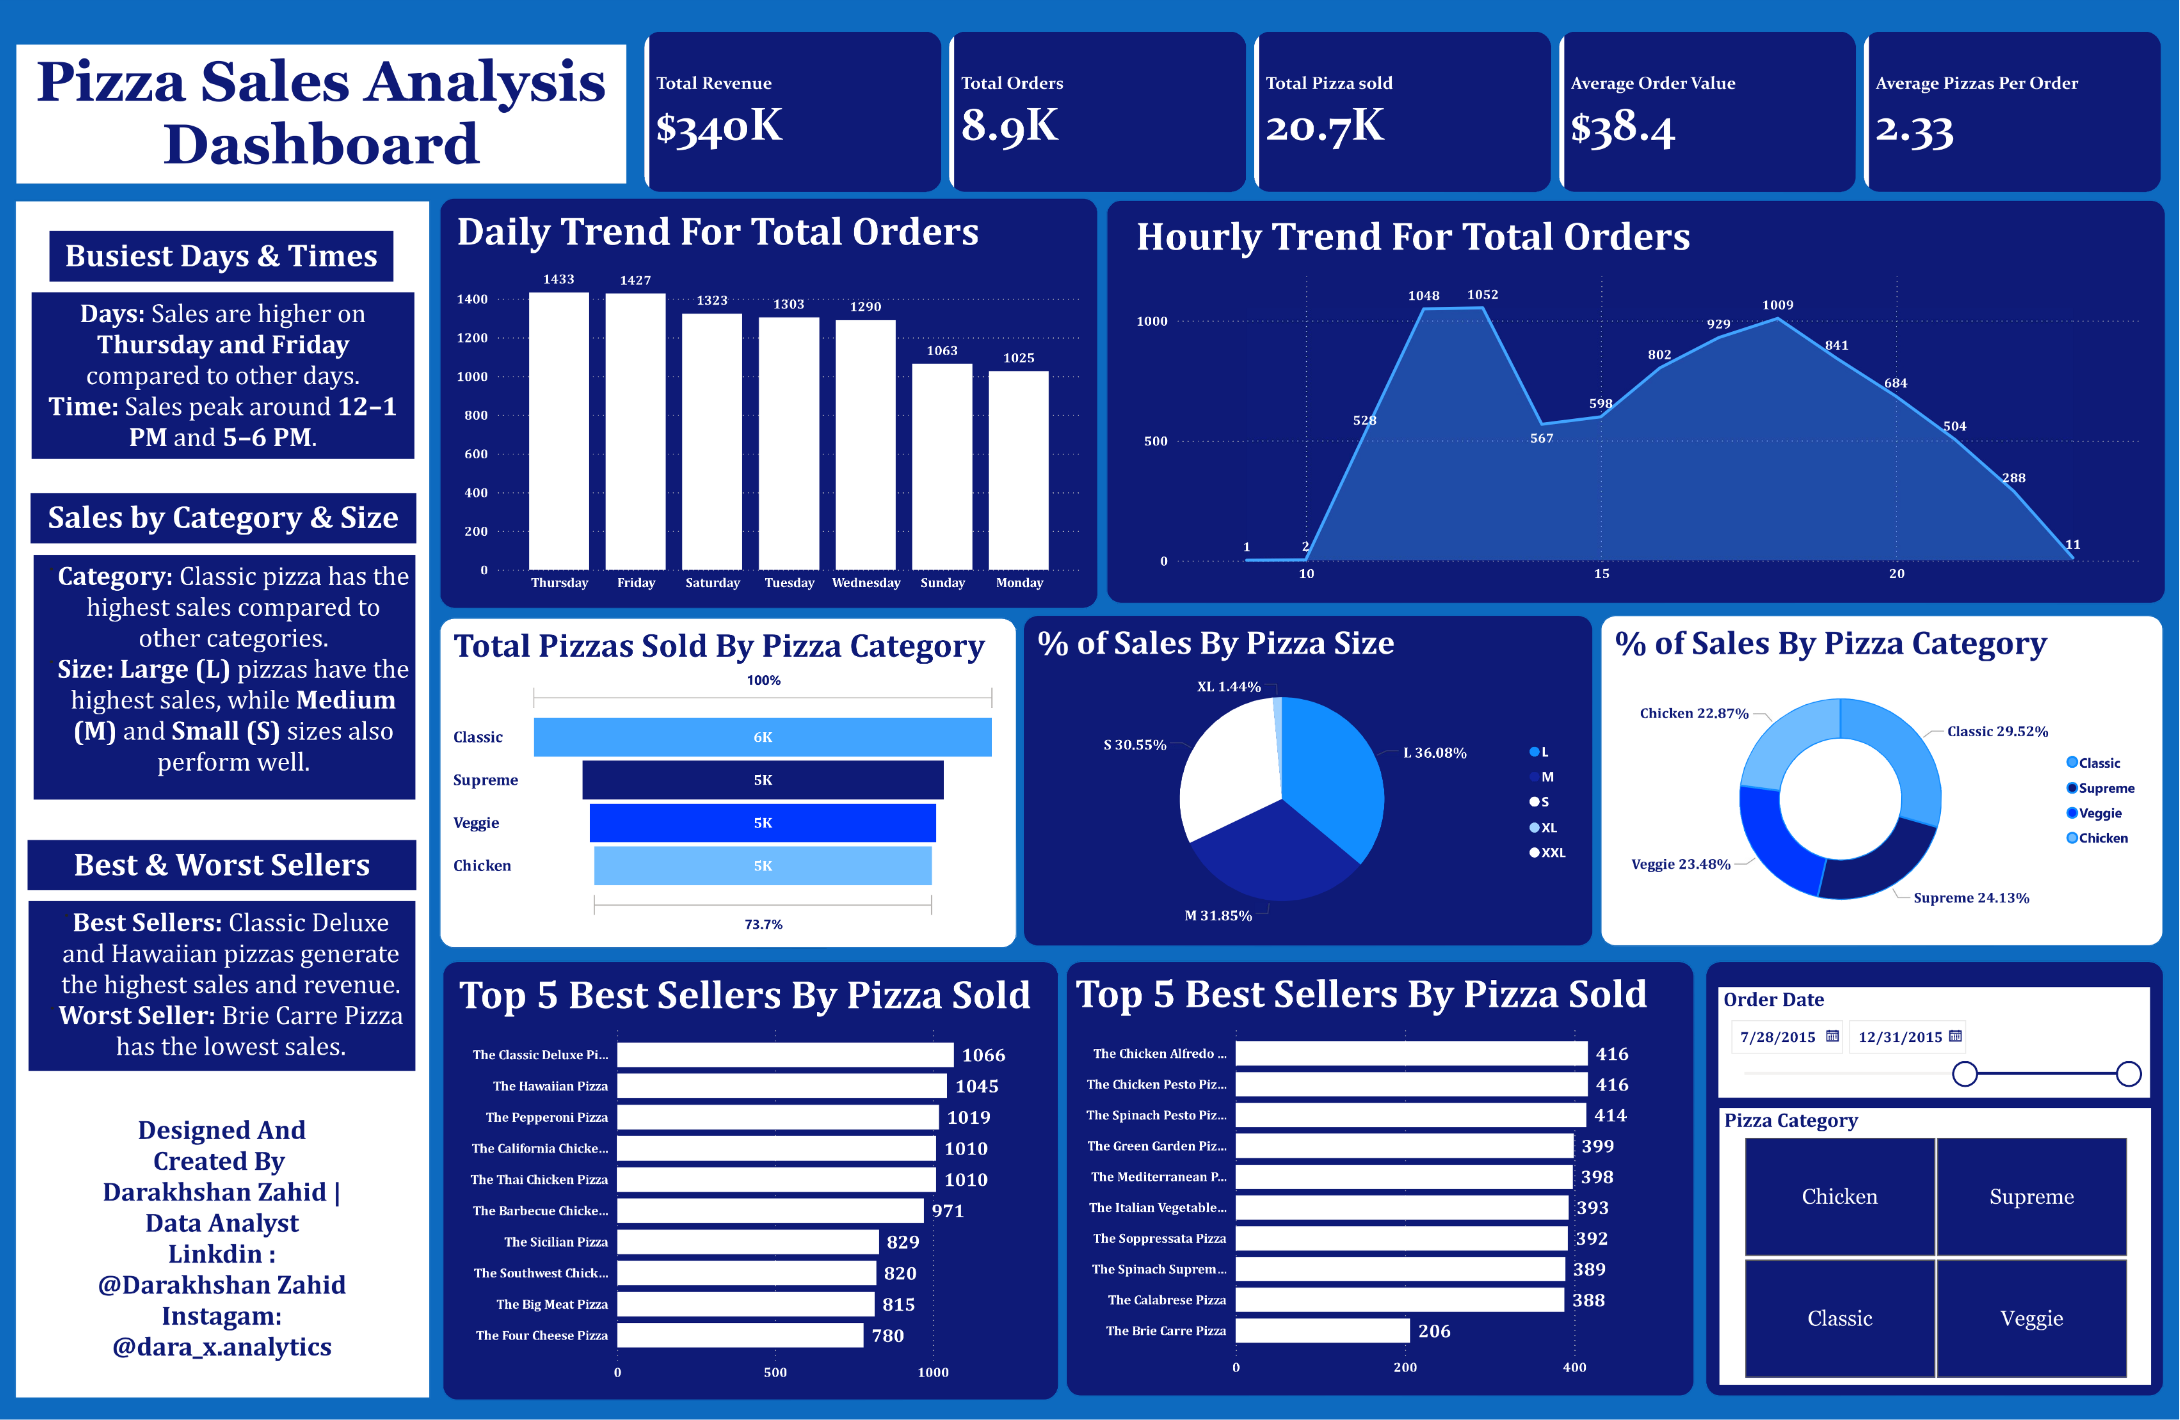

The dashboard page shown, as its layout file describes it:
{"tool":"powerbi","page":{"name":"Page 1","canvas":[2180,1420],"ordinal":0},"visuals":[{"type":"cardVisual","fields":{"Data":["pizza_sales data.Total Revenue","pizza_sales data.Total Orders","pizza_sales data.Total Pizza sold","pizza_sales data.Average Order Value","pizza_sales data.Average Pizzas Per Order"]},"box":[627.7,14.9,1553.2,193.6],"z":0},{"type":"group","id":"g1","title":"Group 1","box":[440,198,660,420],"z":1000},{"type":"shape","box":[440,198,658.7,411.2],"z":1000,"group":"g1"},{"type":"shape","box":[1106.7,200,1060,404.4],"z":1000,"group":"g2"},{"type":"shape","box":[1024.1,614.9,570.8,333.1],"z":1000,"group":"g4"},{"type":"shape","box":[1602.3,614.9,562.8,333.3],"z":1000,"group":"g3"},{"type":"shape","box":[439.4,616.2,577.6,330.7],"z":1000,"group":"g5"},{"type":"shape","box":[442.2,960,616.9,439.7],"z":1000,"group":"g6"},{"type":"shape","box":[1066.3,960.2,629.3,436.2],"z":1000,"group":"g7"},{"type":"group","id":"g2","title":"Group 1","box":[1106.7,200,1060,404.4],"z":2000},{"type":"clusteredColumnChart","title":"Daily Trend For Total Orders","fields":{"Category":["pizza_sales data.Weeday"],"Y":["pizza_sales data.Total Orders"]},"box":[451.6,207,635.4,393.1],"z":2000,"group":"g1"},{"type":"lineChart","title":"Hourly Trend For Total Orders","fields":{"Category":["pizza_sales data.Order Hour"],"Y":["pizza_sales data.Total Orders"]},"box":[1131.2,211.8,1017.6,379.4],"z":2000,"group":"g2"},{"type":"pieChart","title":"% of Sales By Pizza Size","fields":{"Y":["pizza_sales data.Total Orders"],"Category":["pizza_sales data.pizza_size"]},"box":[1033.3,622.3,547.7,316.6],"z":2000,"group":"g4"},{"type":"donutChart","title":"% of Sales By Pizza Category","fields":{"Y":["pizza_sales data.Total Orders"],"Category":["pizza_sales data.pizza_category"]},"box":[1611.4,622.3,540,316.8],"z":2000,"group":"g3"},{"type":"funnel","title":"Total Pizzas Sold By Pizza Category","fields":{"Category":["pizza_sales data.pizza_category"],"Y":["Sum(pizza_sales data.quantity)"]},"box":[448.7,623.5,554.1,314.3],"z":2000,"group":"g5"},{"type":"clusteredBarChart","title":"Top 5 Best Sellers By Pizza Sold","fields":{"Category":["pizza_sales data.pizza_name"],"Y":["Sum(pizza_sales data.quantity)"]},"box":[1070.6,968.3,612.7,416.1],"z":2000,"group":"g7"},{"type":"clusteredBarChart","title":"Top 5 Best Sellers By Pizza Sold","fields":{"Category":["pizza_sales data.pizza_name"],"Y":["Sum(pizza_sales data.quantity)"]},"box":[452.8,968.9,603.6,420.1],"z":2000,"group":"g6"},{"type":"group","id":"g3","title":"Group 1","box":[1602.3,614.9,562.1,333.3],"z":3000},{"type":"group","id":"g4","title":"Group 1","box":[1024.1,614.9,571.3,333.3],"z":4000},{"type":"group","id":"g5","title":"Group 1","box":[439.4,616.2,577.8,331.3],"z":5000},{"type":"group","id":"g6","title":"Group 1","box":[442.2,960,617.8,437.8],"z":6000},{"type":"group","id":"g7","title":"Group 1","box":[1066.3,960.2,628.9,436.1],"z":7000},{"type":"shape","box":[1705.6,959.7,459.7,436.1],"z":8000},{"type":"slicer","title":"Order Date","fields":{"Values":["pizza_sales data.order_date"]},"box":[1719.4,986.1,431.9,111.1],"z":9000},{"type":"slicer","title":"Pizza Category","fields":{"Values":["pizza_sales data.pizza_category"]},"box":[1719.5,1106.9,432.2,277],"z":10000},{"type":"textbox","box":[16.1,41.9,609.7,138.7],"z":11000},{"type":"shape","box":[14,197.7,416.3,1200],"z":12000},{"type":"textbox","box":[48.6,228.6,344.3,50],"z":13000},{"type":"textbox","box":[31.4,290,382.9,167.1],"z":14000},{"type":"textbox","box":[30,491.4,385.7,50],"z":14001},{"type":"textbox","box":[32.5,552.5,382.5,245],"z":14002},{"type":"textbox","box":[27.1,838.6,388.6,50],"z":14003},{"type":"textbox","box":[27.5,900,387.5,170],"z":14004},{"type":"textbox","box":[82.5,1107.5,277.5,262.5],"z":14005}]}

Visuals, with their boxes in screenshot pixels (x1, y1, x2, y2), scaled from the page's 2180x1420 canvas onto the 2180x1420 screenshot:
cardVisual - pizza_sales data.Total Revenue x pizza_sales data.Total Orders: [628, 15, 2179, 208]
"Group 1" group: [440, 198, 1100, 618]
shape: [440, 198, 1099, 609]
shape: [1107, 200, 2167, 604]
shape: [1024, 615, 1595, 948]
shape: [1602, 615, 2165, 948]
shape: [439, 616, 1017, 947]
shape: [442, 960, 1059, 1400]
shape: [1066, 960, 1696, 1396]
"Group 1" group: [1107, 200, 2167, 604]
"Daily Trend For Total Orders" clusteredColumnChart: [452, 207, 1087, 600]
"Hourly Trend For Total Orders" lineChart: [1131, 212, 2149, 591]
"% of Sales By Pizza Size" pieChart: [1033, 622, 1581, 939]
"% of Sales By Pizza Category" donutChart: [1611, 622, 2151, 939]
"Total Pizzas Sold By Pizza Category" funnel: [449, 624, 1003, 938]
"Top 5 Best Sellers By Pizza Sold" clusteredBarChart: [1071, 968, 1683, 1384]
"Top 5 Best Sellers By Pizza Sold" clusteredBarChart: [453, 969, 1056, 1389]
"Group 1" group: [1602, 615, 2164, 948]
"Group 1" group: [1024, 615, 1595, 948]
"Group 1" group: [439, 616, 1017, 948]
"Group 1" group: [442, 960, 1060, 1398]
"Group 1" group: [1066, 960, 1695, 1396]
shape: [1706, 960, 2165, 1396]
"Order Date" slicer: [1719, 986, 2151, 1097]
"Pizza Category" slicer: [1720, 1107, 2152, 1384]
textbox: [16, 42, 626, 181]
shape: [14, 198, 430, 1398]
textbox: [49, 229, 393, 279]
textbox: [31, 290, 414, 457]
textbox: [30, 491, 416, 541]
textbox: [32, 552, 415, 798]
textbox: [27, 839, 416, 889]
textbox: [28, 900, 415, 1070]
textbox: [82, 1108, 360, 1370]
